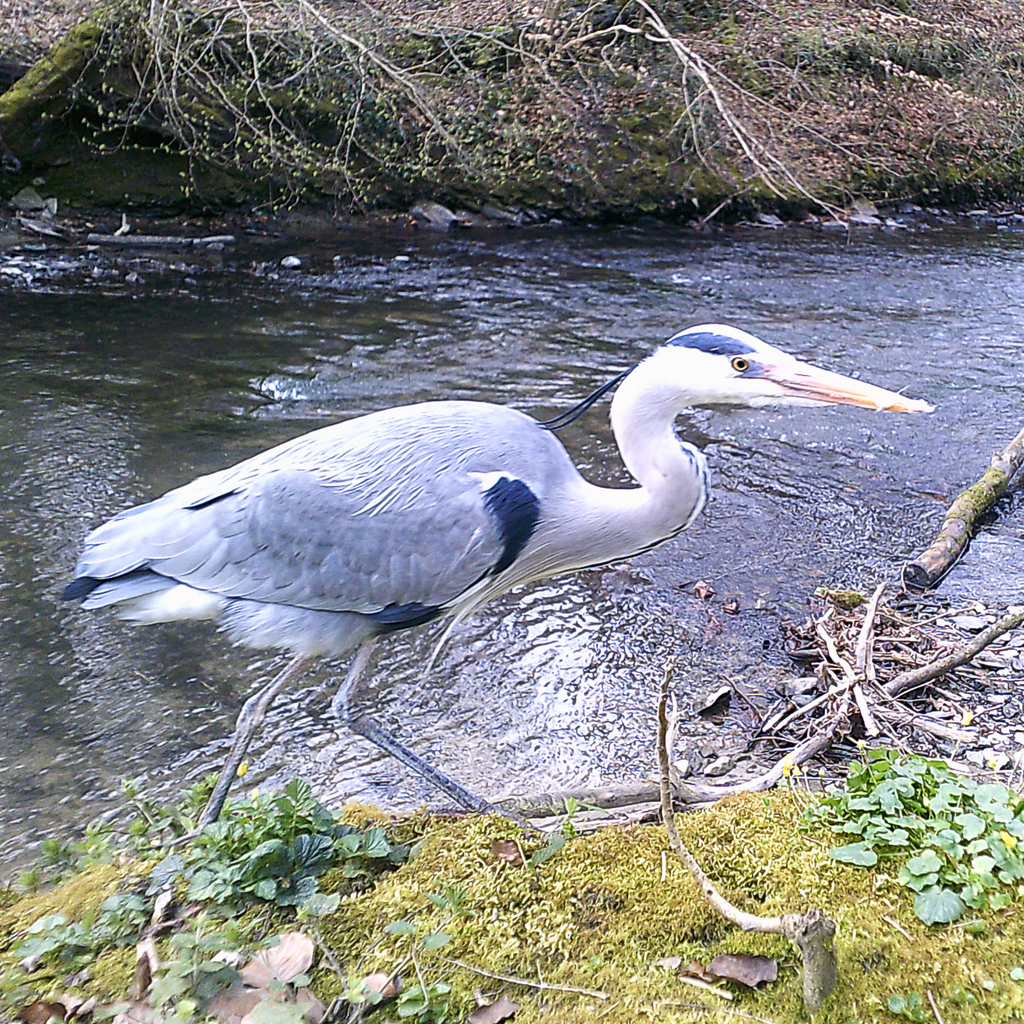heron: (66, 323, 931, 846)
